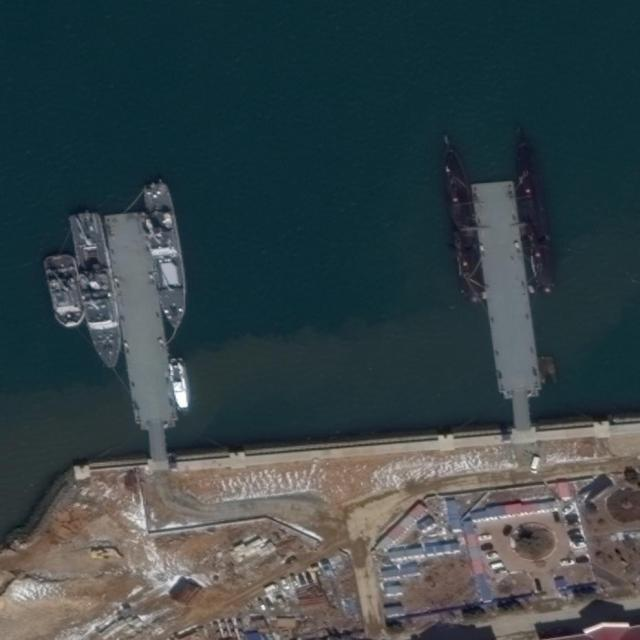Other Warship: (70, 211, 128, 373), (140, 180, 195, 332), (43, 251, 86, 330), (168, 356, 194, 414)
Submarine: (437, 131, 489, 304), (506, 122, 554, 303)
